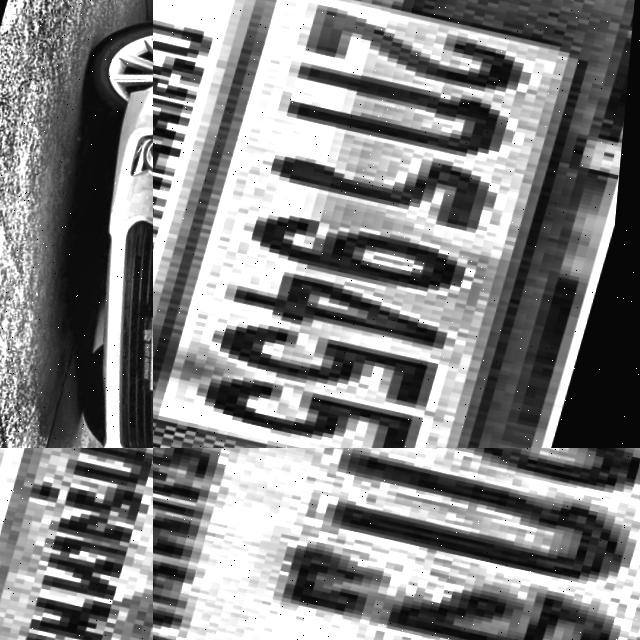license-plate: (153, 0, 640, 448), (153, 448, 640, 640), (0, 448, 153, 640), (124, 307, 153, 402)
